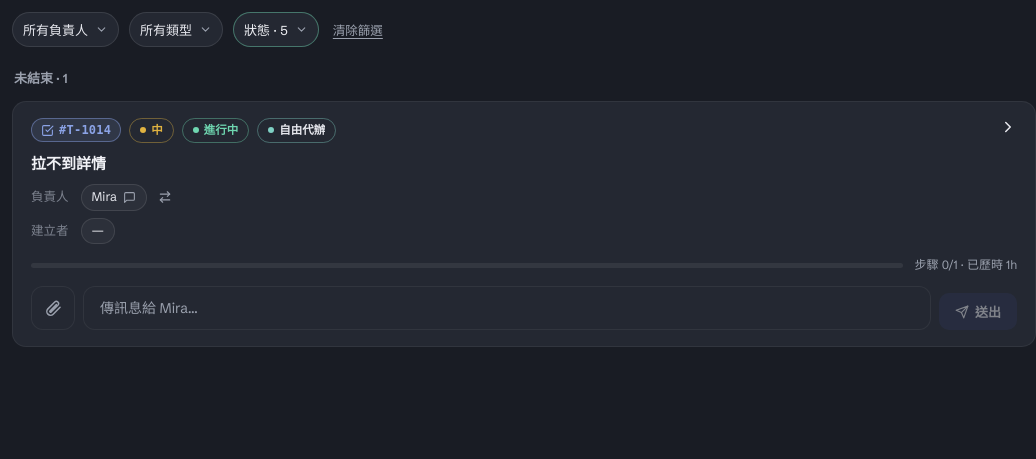
TasksPage › light list + lazy detail on expand › surfaces an error + retry (never the fake 規劃中) when the detail hydrate fails, and recovers on retry
The width and height of the screenshot is (1036, 459).
Click the button with test id "task-card" at (524, 332), box left=12, top=100, right=1035, bottom=347
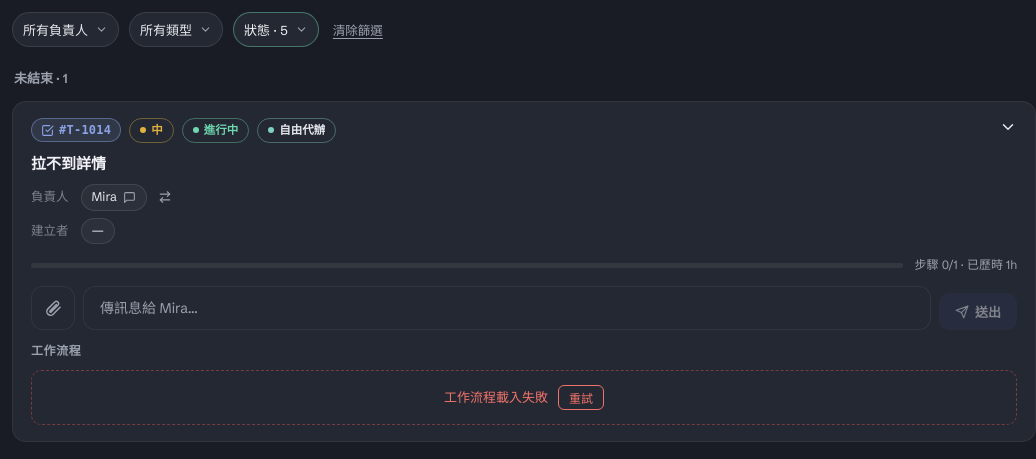
Expected: the element with test id "task-steps-error" is shown, left=31, top=370, right=1017, bottom=425
// Retry re-runs the fetch → steps hydrate, error clears.
Click the button with test id "task-steps-retry" at (581, 398), box left=558, top=385, right=604, bottom=410
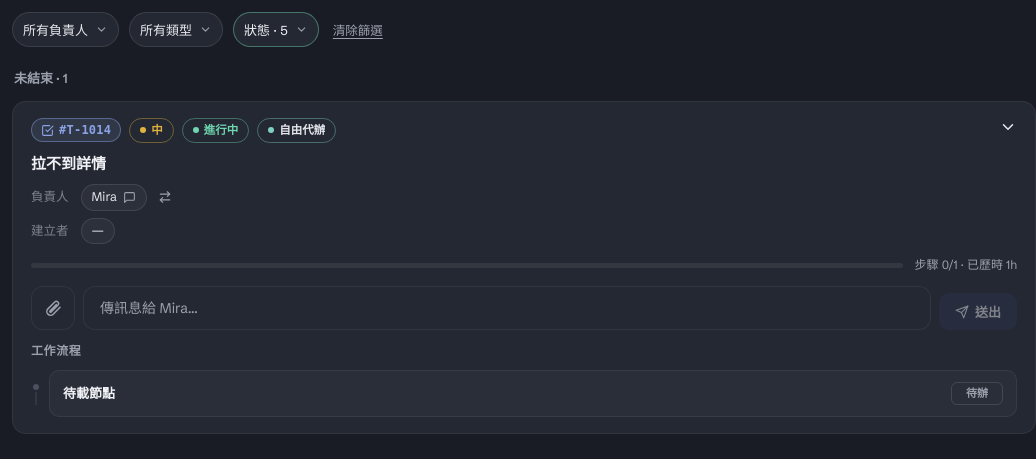
Expected: the element with test id "task-step" is shown, left=49, top=370, right=1017, bottom=417
